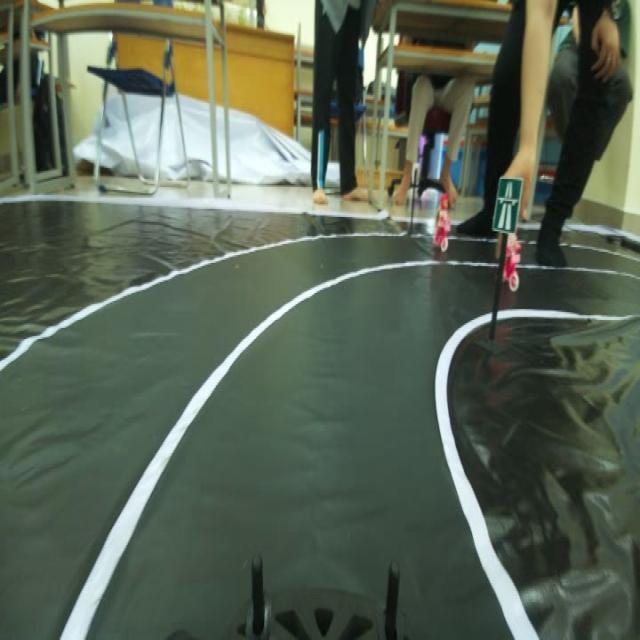highway_entry: (490, 168, 522, 230)
pedestrian: (430, 190, 460, 258), (502, 237, 526, 287)
